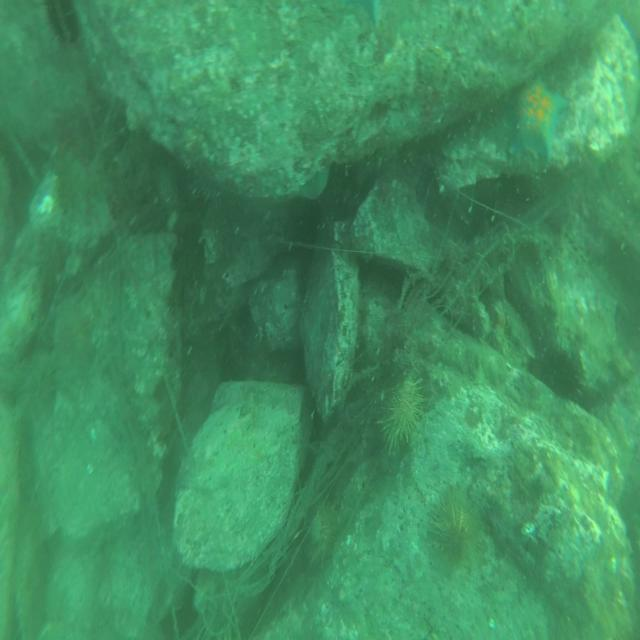echinus: (420, 488, 482, 576), (292, 490, 340, 583), (376, 378, 425, 461), (43, 0, 79, 53)
starfish: (510, 74, 570, 170)
